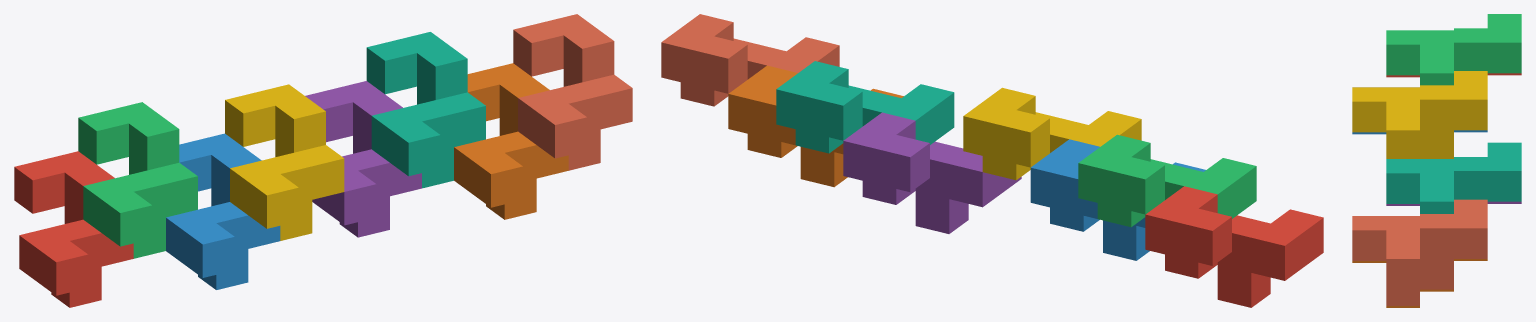
File: tiling.obj
The picture shows the model from 3 angles, left to right: view 1: azimuth 30°, elevation 25°; view 2: azimuth 150°, elevation 25°; view 3: azimuth 270°, elevation 25°; orthographic projection. The views are drawn at different scales.
Parts seen in each view (by area): view 1: copy_1_domain_8, copy_1_domain_3, copy_1_domain_4, copy_1_domain_7, copy_1_domain_1, copy_1_domain_6, copy_1_domain_2, copy_1_domain_5; view 2: copy_1_domain_1, copy_1_domain_5, copy_1_domain_3, copy_1_domain_7, copy_1_domain_4, copy_1_domain_8, copy_1_domain_6, copy_1_domain_2; view 3: copy_1_domain_8, copy_1_domain_4, copy_1_domain_3, copy_1_domain_7, copy_1_domain_6, copy_1_domain_1, copy_1_domain_2, copy_1_domain_5.
Part boxes in pixels (x1=…): copy_1_domain_8: x1=513, y1=14, x2=632, y2=170; copy_1_domain_3: x1=78, y1=102, x2=197, y2=258; copy_1_domain_4: x1=225, y1=84, x2=344, y2=240; copy_1_domain_7: x1=366, y1=32, x2=485, y2=188; copy_1_domain_1: x1=14, y1=151, x2=133, y2=307; copy_1_domain_6: x1=454, y1=63, x2=568, y2=219; copy_1_domain_2: x1=166, y1=133, x2=280, y2=289; copy_1_domain_5: x1=305, y1=81, x2=421, y2=237; copy_1_domain_1: x1=1145, y1=186, x2=1323, y2=307; copy_1_domain_5: x1=843, y1=112, x2=1021, y2=233; copy_1_domain_3: x1=1078, y1=134, x2=1256, y2=227; copy_1_domain_7: x1=776, y1=61, x2=954, y2=153; copy_1_domain_4: x1=963, y1=87, x2=1141, y2=180; copy_1_domain_8: x1=661, y1=14, x2=839, y2=106; copy_1_domain_6: x1=728, y1=65, x2=903, y2=187; copy_1_domain_2: x1=1030, y1=139, x2=1205, y2=260; copy_1_domain_8: x1=1352, y1=199, x2=1487, y2=305; copy_1_domain_4: x1=1352, y1=71, x2=1487, y2=158; copy_1_domain_3: x1=1386, y1=14, x2=1521, y2=85; copy_1_domain_7: x1=1386, y1=142, x2=1521, y2=213; copy_1_domain_6: x1=1352, y1=259, x2=1487, y2=307; copy_1_domain_1: x1=1386, y1=73, x2=1521, y2=77; copy_1_domain_2: x1=1352, y1=130, x2=1487, y2=134; copy_1_domain_5: x1=1386, y1=201, x2=1521, y2=205.
Size of the model in its own units: 18 by 4 by 5.
